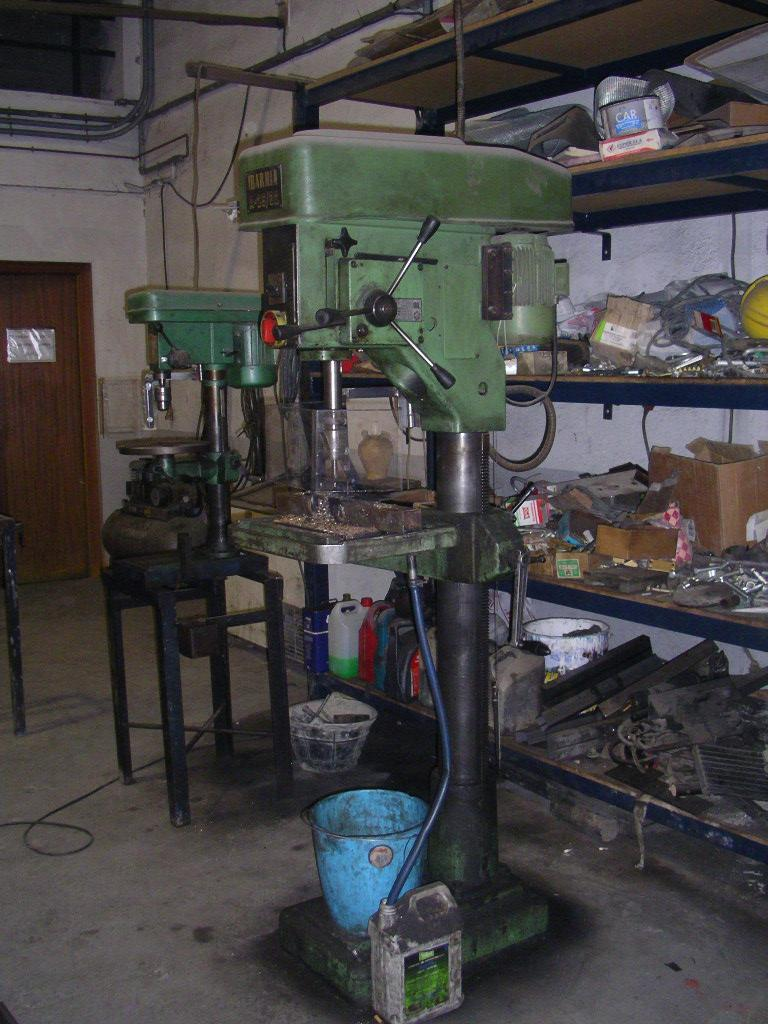falta_resguardo: (323, 353, 347, 448)
sin_senalizacion_riesgos: (311, 150, 473, 206)
